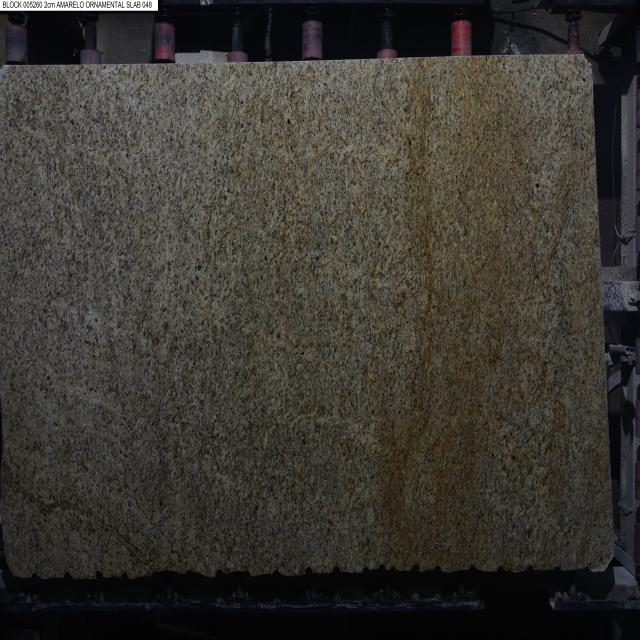chapa: (0, 56, 612, 579)
veio: (92, 568, 103, 583), (303, 564, 314, 578)
